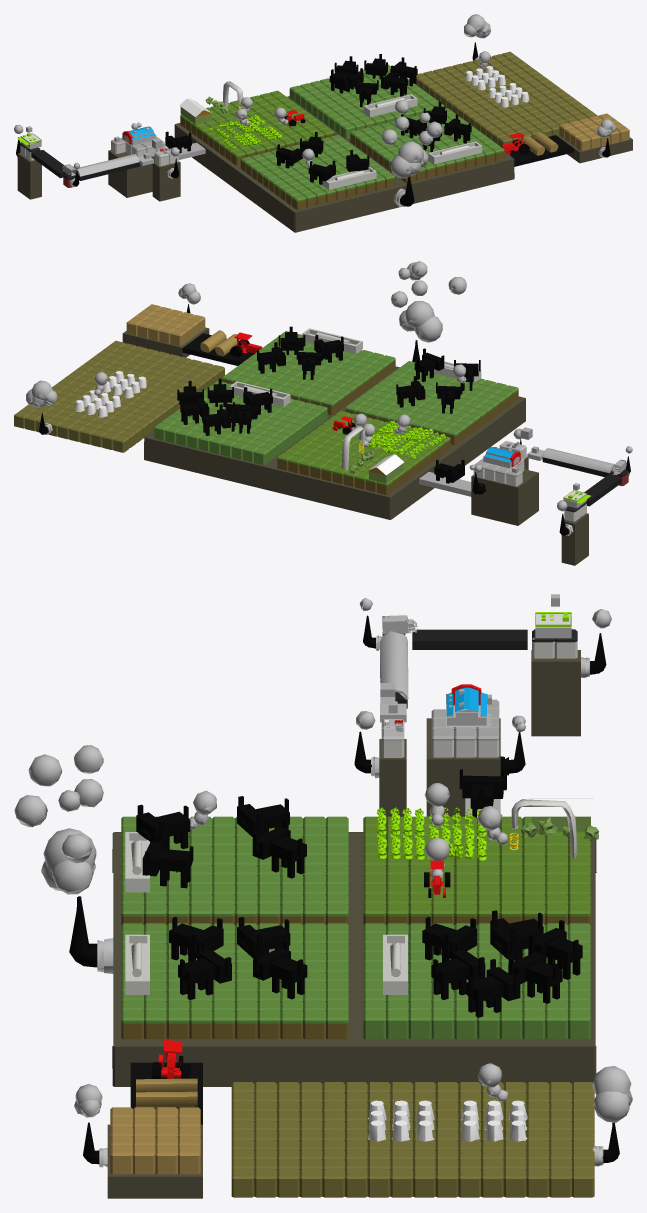
The model's file is beef.gltf.
The picture shows the model from 3 angles, top to bottom: view 1: azimuth 30°, elevation 25°; view 2: azimuth 150°, elevation 25°; view 3: azimuth 270°, elevation 25°; orthographic projection. The views are drawn at different scales.
Visible parts, largest first — view 1: beef; view 2: beef; view 3: beef.
Part boxes in pixels (<box>): beef: <box>14,14,632,232</box>; beef: <box>14,261,632,565</box>; beef: <box>14,594,632,1198</box>.
Bounding box in the file's own units: 50.67 × 11.27 × 27.14.
